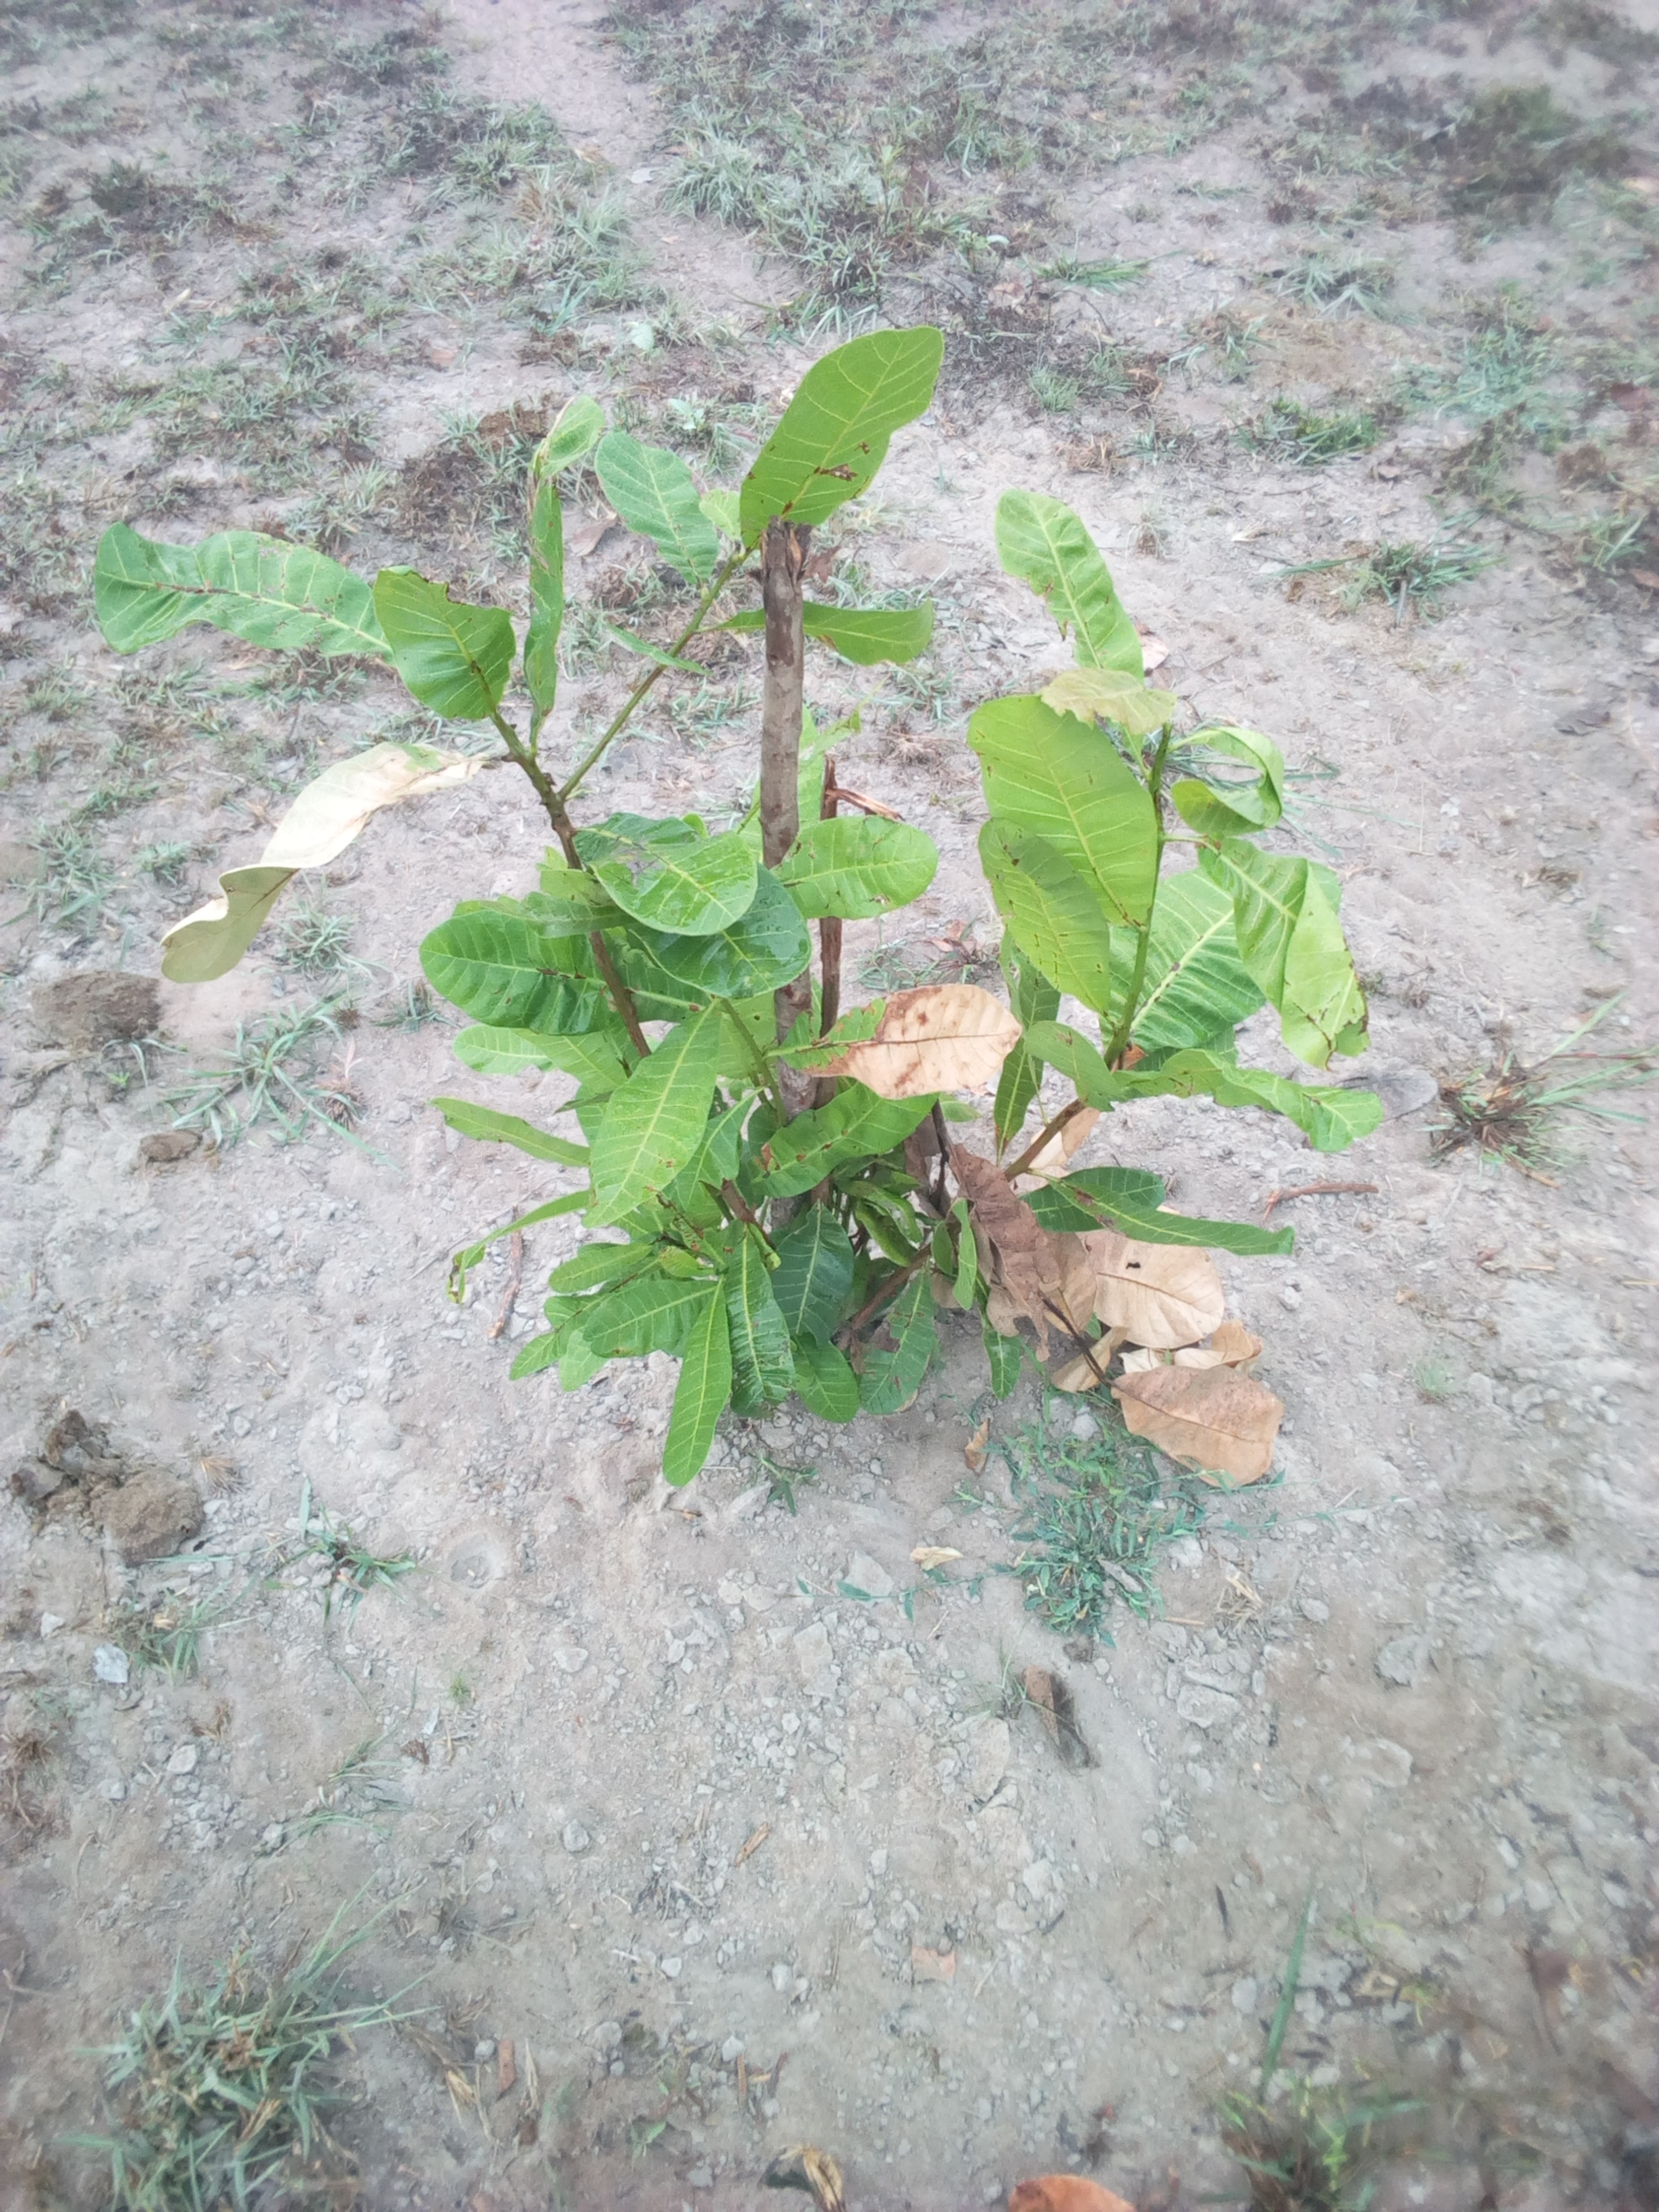Helopeltis anacardii: (91, 509, 394, 691), (1201, 840, 1366, 1059), (425, 911, 671, 1026)
